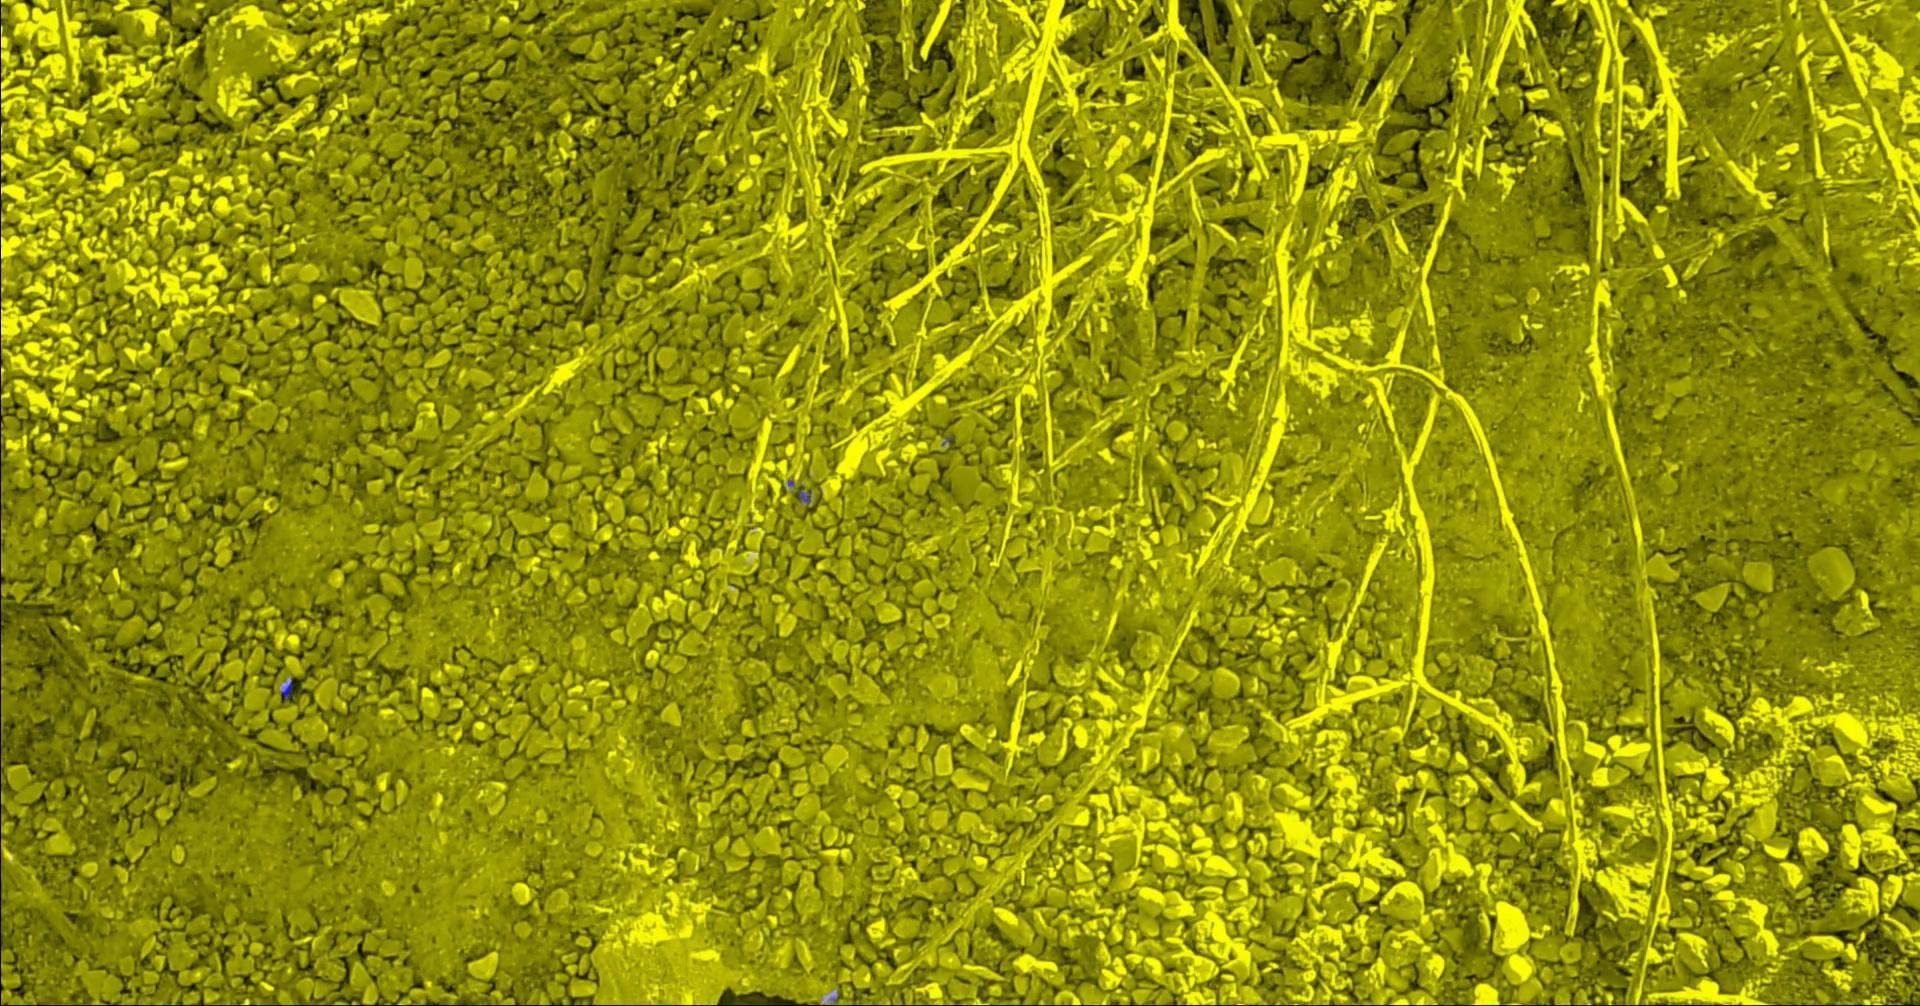ant: (283, 678, 295, 699), (797, 486, 811, 503)
